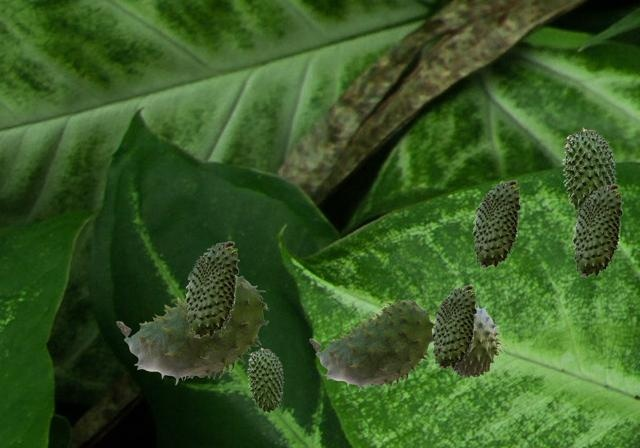guyabano: (116, 275, 268, 384), (309, 299, 436, 391), (185, 241, 238, 337), (572, 184, 622, 276), (562, 127, 616, 211), (447, 304, 507, 377), (472, 180, 520, 267), (431, 285, 476, 368), (247, 347, 283, 412)
